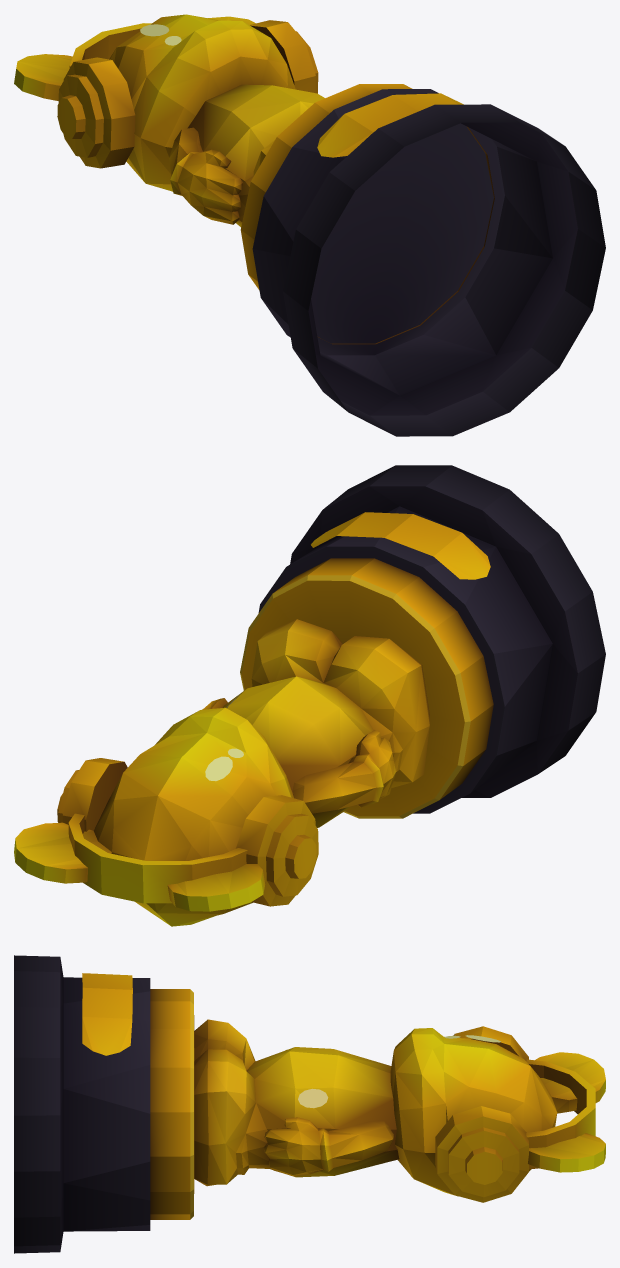
File: RDMAAward.fbx
3 views of the same model, one above another, from view 1: azimuth 30°, elevation 25°; view 2: azimuth 150°, elevation 25°; view 3: azimuth 270°, elevation 25° (orthographic). The views are drawn at different scales.
Visible parts, largest first — view 1: RDMAAward; view 2: RDMAAward; view 3: RDMAAward.
Boxes of the visible parts, <box> form: RDMAAward: <box>14,14,605,436</box>; RDMAAward: <box>14,465,605,926</box>; RDMAAward: <box>14,955,605,1253</box>.
Size of the model in its own units: 48.88 by 48.88 by 96.87.
